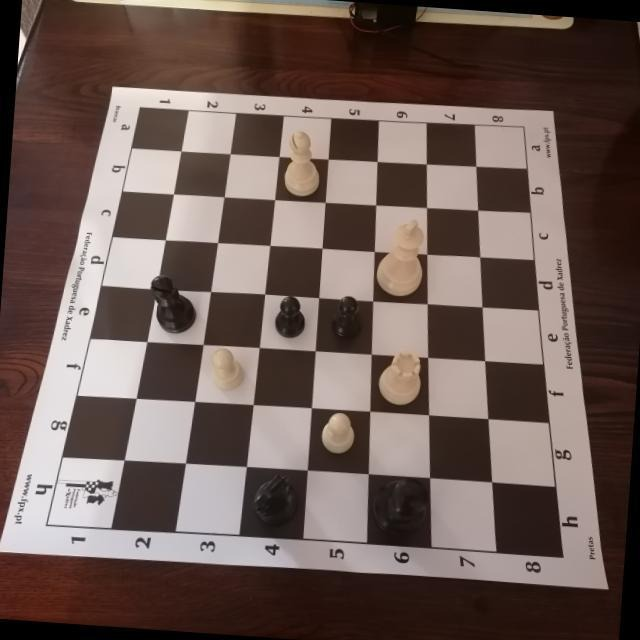black-bishop: (145, 272, 200, 335)
black-king: (369, 473, 431, 539)
black-knight: (249, 470, 303, 530)
black-pawn: (328, 293, 364, 339), (272, 293, 307, 339)
white-bishop: (282, 128, 324, 198)
white-king: (374, 215, 426, 298)
white-pawn: (208, 346, 247, 392), (319, 409, 356, 455)
white-rook: (376, 345, 424, 406)
